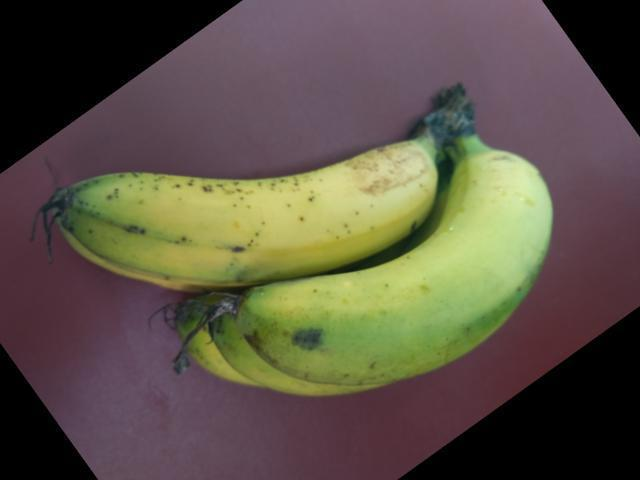freshripe: (246, 141, 574, 402)
ripe: (42, 135, 428, 279)
